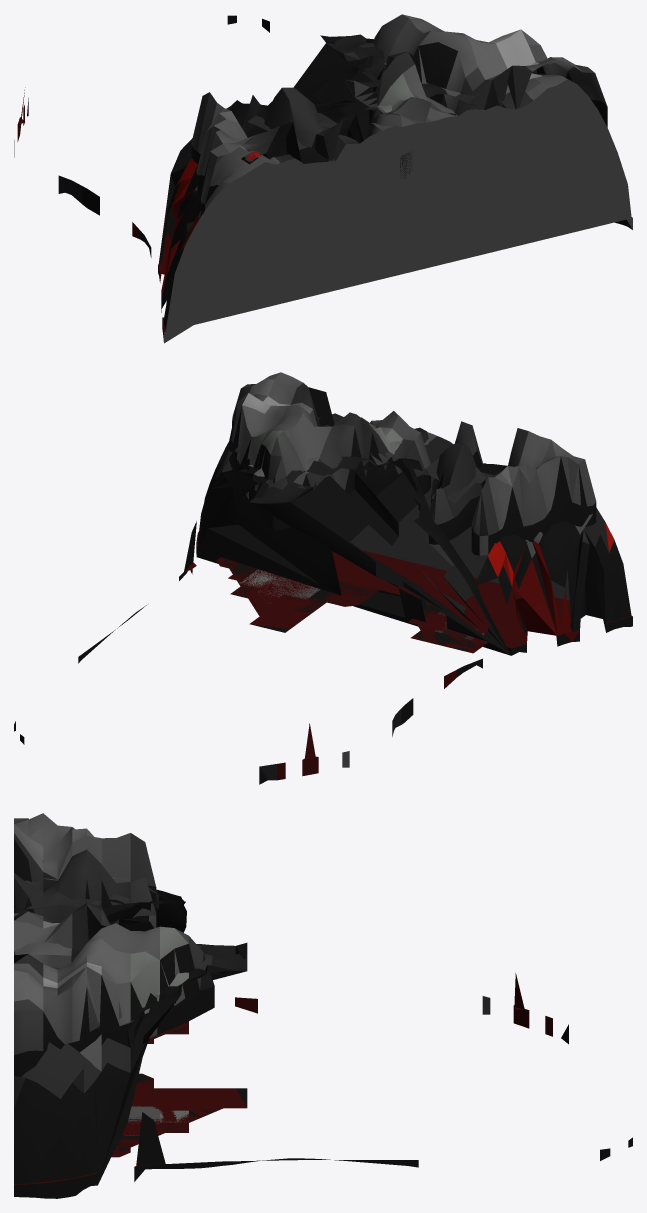
The model's file is hooded_top_damaged.glb.
The picture shows the model from 3 angles, top to bottom: view 1: azimuth 30°, elevation 25°; view 2: azimuth 150°, elevation 25°; view 3: azimuth 270°, elevation 25°; orthographic projection. The views are drawn at different scales.
Parts seen in each view (by area): view 1: hooded_top_damaged_cloak, hooded_top_damaged_shards; view 2: hooded_top_damaged_cloak, hooded_top_damaged_shards; view 3: hooded_top_damaged_shards, hooded_top_damaged_cloak.
Boxes of the visible parts, <box> form: hooded_top_damaged_cloak: <box>14,15,632,343</box>; hooded_top_damaged_shards: <box>191,14,607,217</box>; hooded_top_damaged_cloak: <box>14,413,632,784</box>; hooded_top_damaged_shards: <box>229,372,596,555</box>; hooded_top_damaged_shards: <box>14,813,214,1076</box>; hooded_top_damaged_cloak: <box>14,860,632,1198</box>.
Size of the model in its own units: 18.62 by 7.89 by 21.22.
